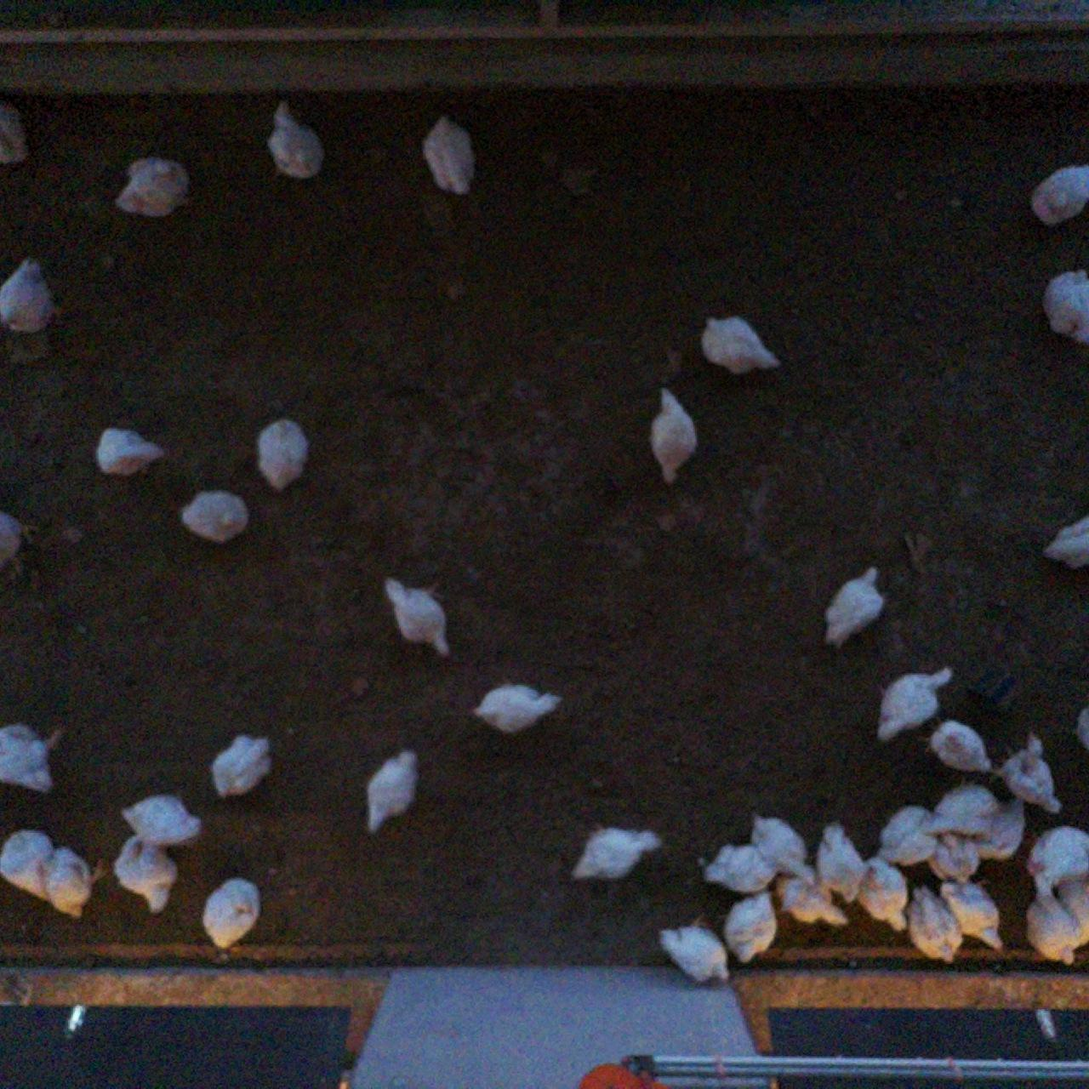chicken: (876, 659, 957, 748), (112, 832, 186, 922), (821, 559, 888, 654), (567, 822, 665, 886), (382, 574, 453, 662), (994, 731, 1064, 818), (936, 874, 1008, 957), (900, 881, 968, 968), (772, 869, 857, 938), (651, 918, 736, 987), (1021, 871, 1081, 968), (698, 314, 783, 382), (872, 798, 945, 877), (361, 744, 421, 838), (0, 715, 73, 791), (645, 383, 700, 483), (40, 842, 106, 925), (117, 793, 208, 852), (473, 680, 564, 738), (750, 807, 818, 884), (207, 728, 273, 806), (113, 152, 192, 217), (200, 872, 263, 953), (721, 884, 781, 968), (701, 840, 786, 899), (1022, 157, 1089, 231), (265, 101, 326, 182), (0, 253, 58, 336), (252, 416, 312, 494), (857, 851, 912, 935), (814, 821, 868, 906), (89, 422, 167, 480), (422, 111, 476, 194), (0, 824, 55, 904), (178, 485, 252, 544), (925, 778, 999, 837), (921, 717, 995, 775), (1040, 266, 1089, 345), (1023, 824, 1089, 882), (920, 821, 983, 881), (971, 796, 1027, 860), (1040, 505, 1089, 571), (1053, 872, 1089, 953), (0, 99, 33, 168), (0, 508, 24, 575), (1069, 702, 1089, 762)
